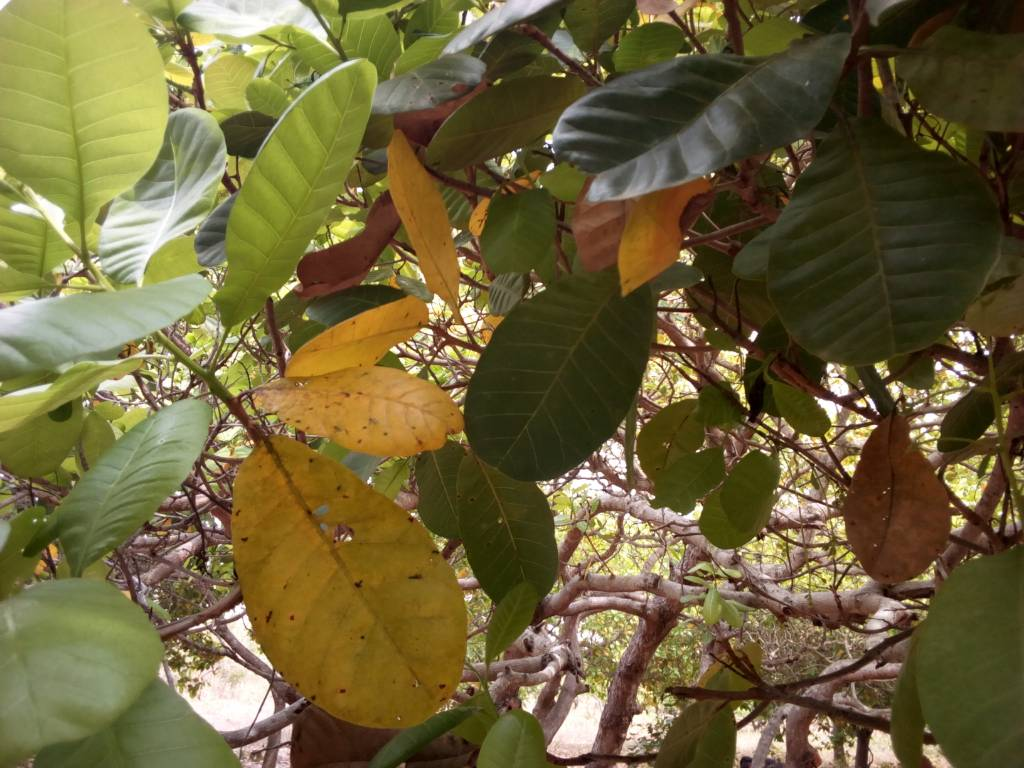Bactériose: (233, 419, 466, 726), (246, 368, 461, 452)
